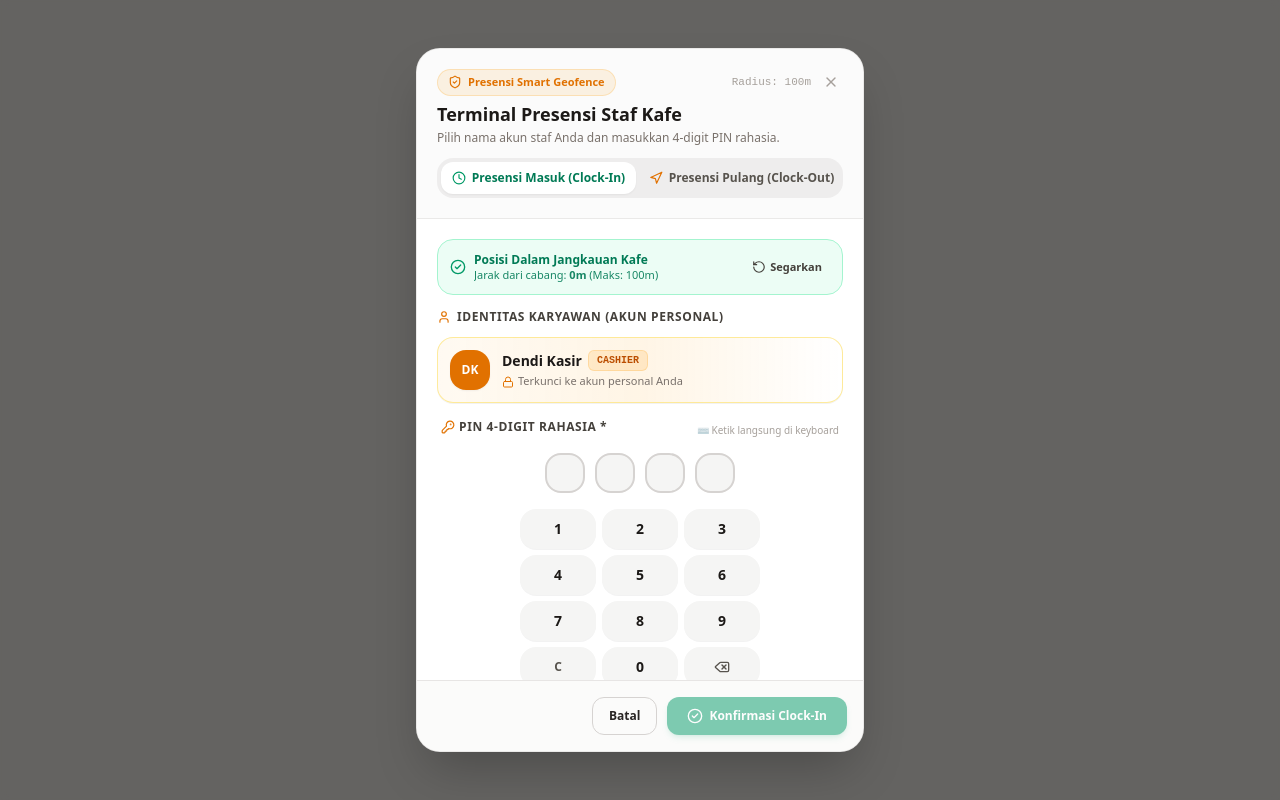
Test: ClockInModal Component › locks to personal user identity when logged in as non-admin (hides dropdown, sends user.id)
This screenshot has width=1280, height=800.
Later steps or results of the test are not shown.
Expected: the heading "Dendi Kasir" is shown, [502,351,582,371]
Expected: the text "CASHIER" is shown, [588,350,648,371]
Click the button "1": x=558, y=529 [520,509,596,549]
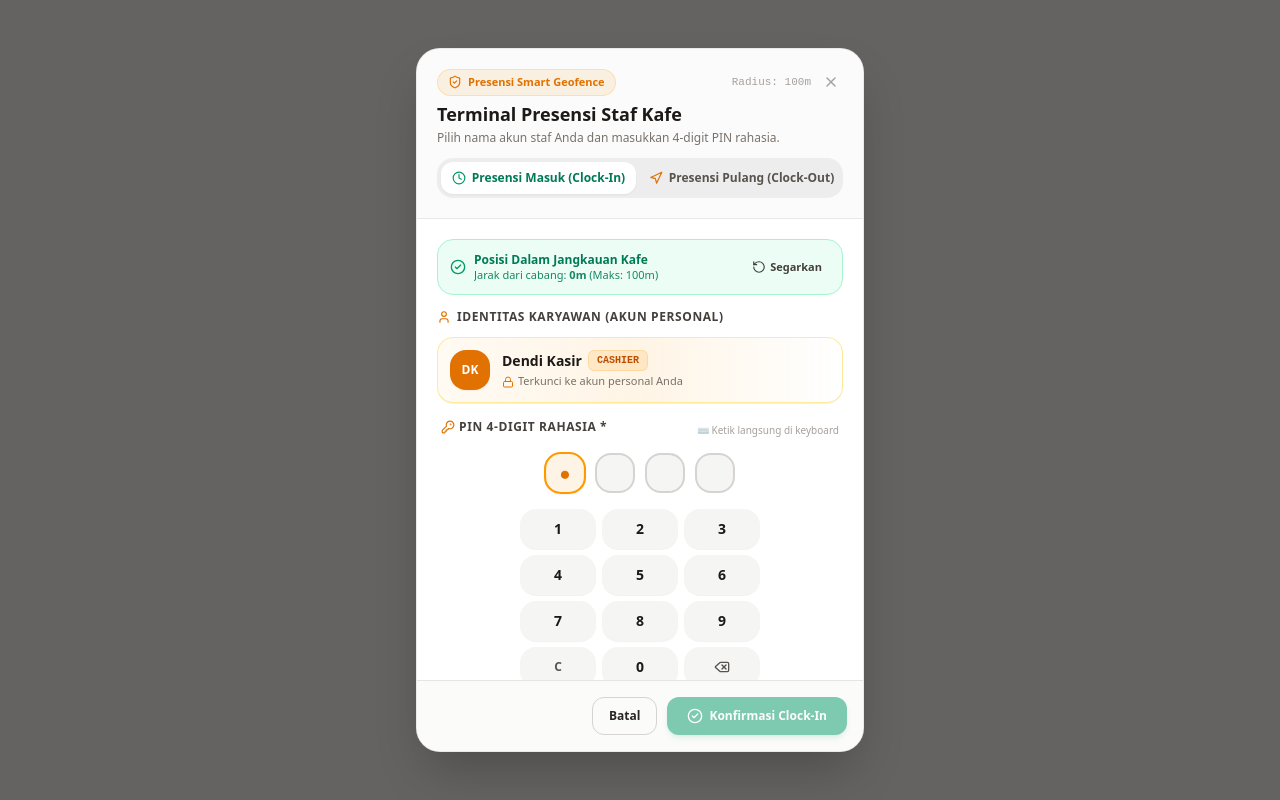
Click the button "2": x=640, y=529 [602,509,678,549]
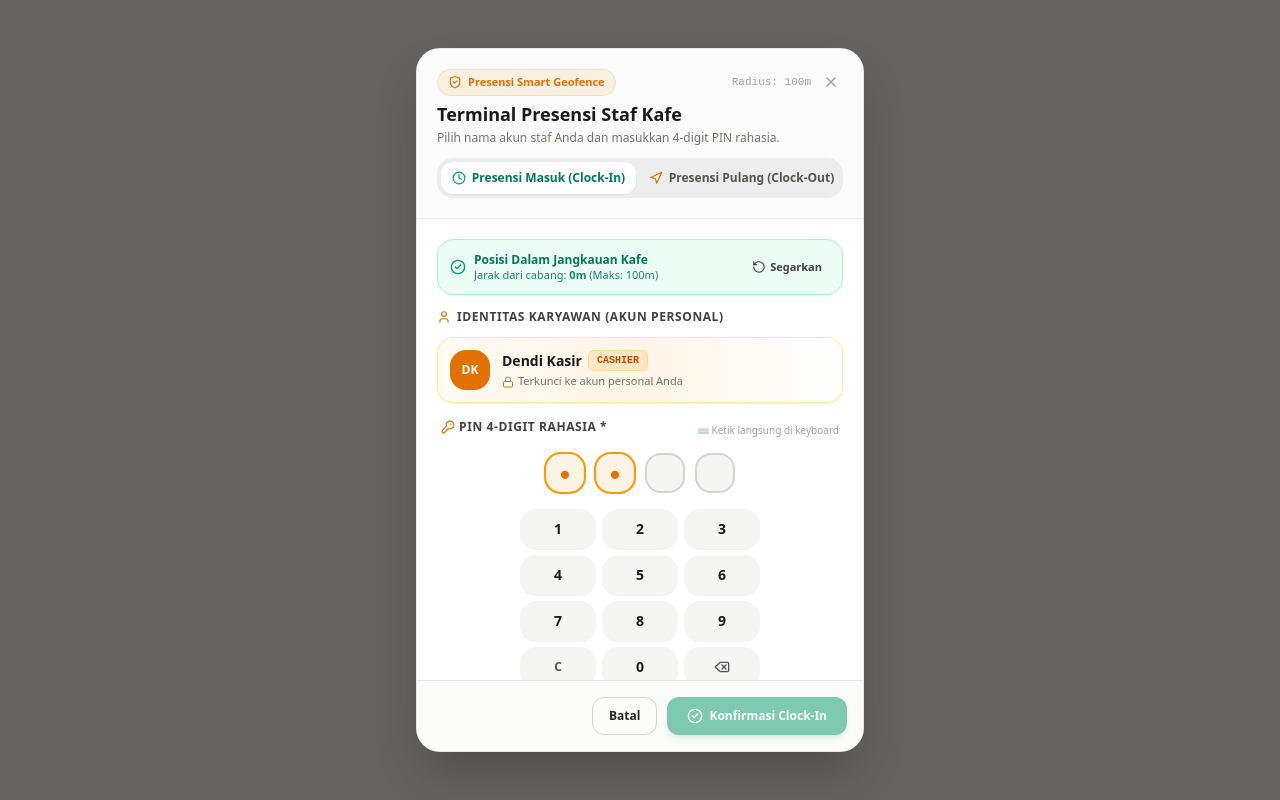
Click the button "3": x=722, y=529 [684,509,760,549]
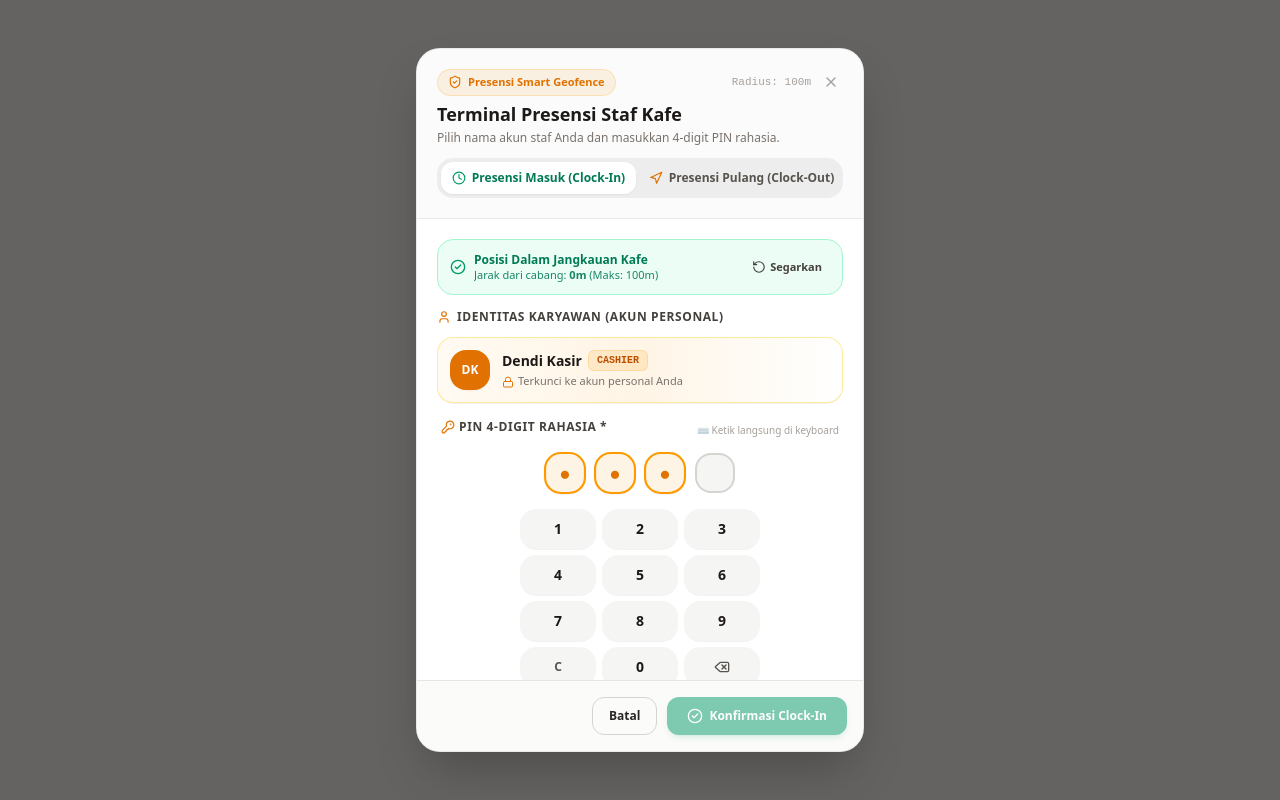
Click the button "4": x=558, y=575 [520,555,596,595]
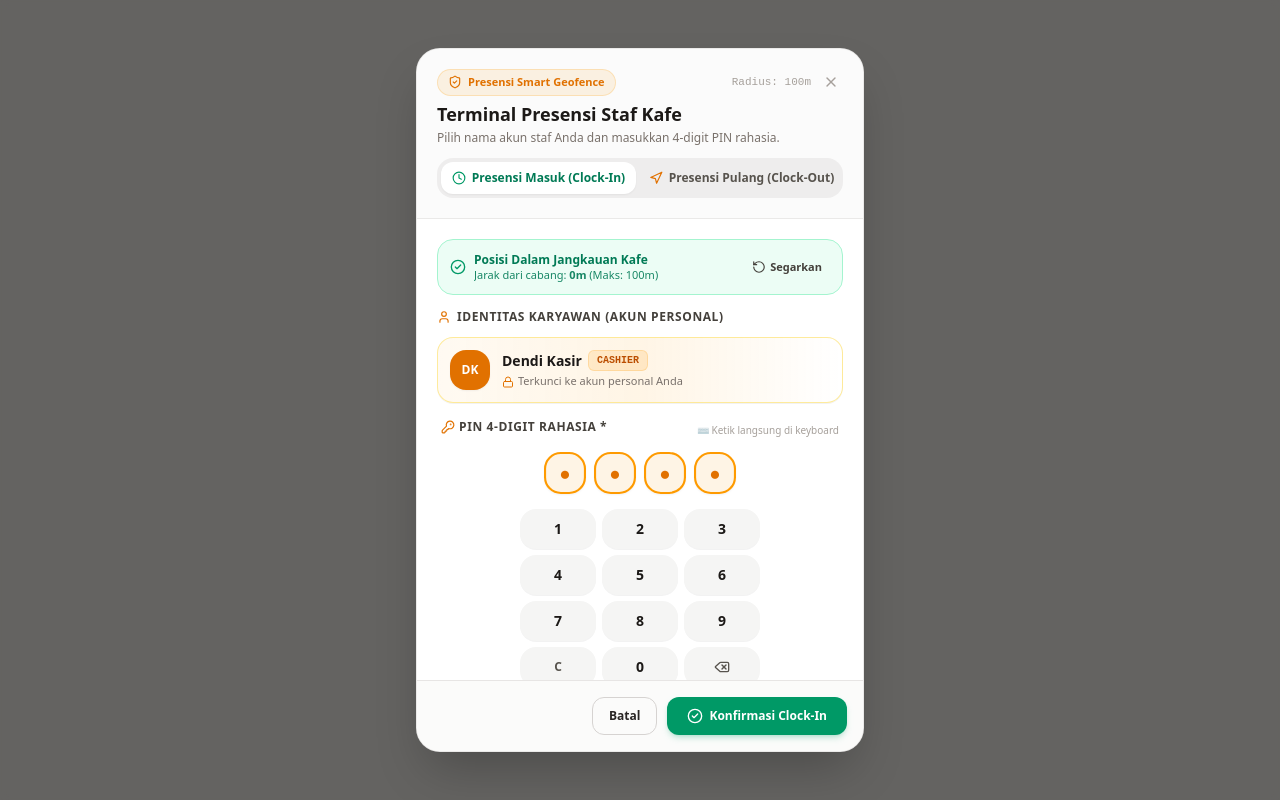
Expected: the button "Konfirmasi Clock-In" is enabled, [667,697,847,735]
